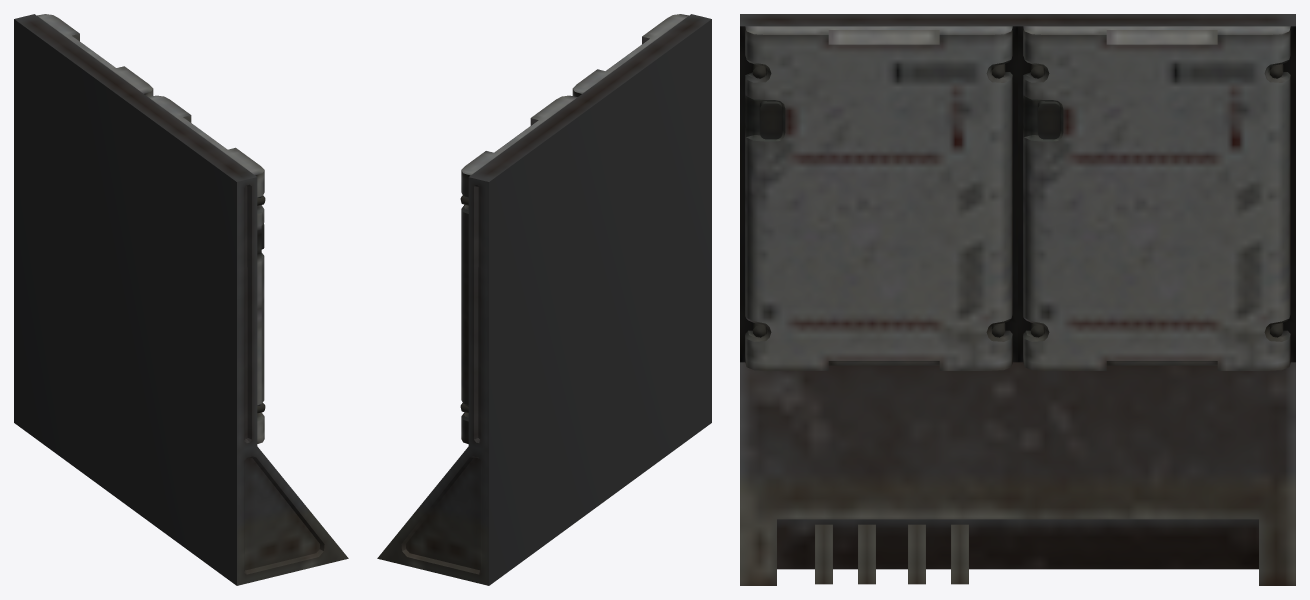
The model's file is Wall_07.FBX.
The picture shows the model from 3 angles, left to right: view 1: azimuth 30°, elevation 25°; view 2: azimuth 150°, elevation 25°; view 3: azimuth 270°, elevation 25°; orthographic projection. The views are drawn at different scales.
Parts seen in each view (by area): view 1: Wall_07; view 2: Wall_07; view 3: Wall_07.
Boxes of the visible parts, bbox=[...] form: Wall_07: bbox=[14, 14, 348, 585]; Wall_07: bbox=[377, 14, 711, 585]; Wall_07: bbox=[740, 14, 1295, 585].
Bounding box in the file's own units: 87.08 × 300 × 300.
